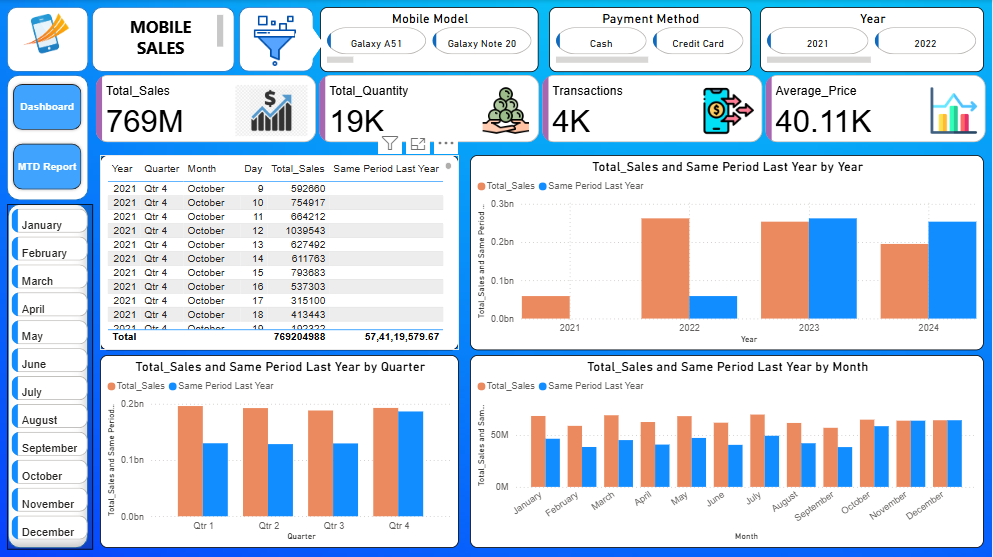

What the dashboard file says about the page in this screenshot:
{"tool":"powerbi","page":{"name":"Same Period Last Year","canvas":[1280,720],"ordinal":2},"visuals":[{"type":"shape","box":[8.5,8.5,104.9,83.6],"z":0},{"type":"image","box":[8.6,8.6,100,70],"z":1000},{"type":"shape","box":[8.5,96.4,104.9,161.6],"z":2000},{"type":"cardVisual","fields":{"Data":["Sales_Data.Total_Sales","Sales_Data.Total_Quantity","Sales_Data.Transactions","Sales_Data.Average_Price"]},"box":[118.6,91.4,1161.4,97.1],"z":3000},{"type":"advancedSlicerVisual","fields":{"Values":["Sales_Data.Mobile Model"]},"box":[412.4,8.5,282,83.6],"z":4000},{"type":"advancedSlicerVisual","fields":{"Values":["Sales_Data.Payment Method"]},"box":[708.7,8.5,260.8,83.6],"z":5000},{"type":"advancedSlicerVisual","fields":{"Values":["Custom_Calender.Date.Variation.Date Hierarchy.Year"]},"box":[980.8,8.5,289.1,83.6],"z":6000},{"type":"shape","box":[309,8.5,96.4,83.6],"z":7000},{"type":"image","box":[302.9,14.3,102.9,77.1],"z":8000},{"type":"shape","box":[380,30,37.1,52.9],"z":9000},{"type":"shape","box":[119.1,8.5,184.3,83.6],"z":10000},{"type":"textbox","box":[128.6,14.3,164.3,68.6],"z":11000},{"type":"shape","box":[9.9,263.6,103.5,443.6],"z":12000},{"type":"advancedSlicerVisual","fields":{"Values":["Custom_Calender.Date.Variation.Date Hierarchy.Month"]},"box":[8.5,263.6,110.6,446.5],"z":13000},{"type":"tableEx","fields":{"Values":["Custom_Calender.Date.Variation.Date Hierarchy.Year","Custom_Calender.Date.Variation.Date Hierarchy.Quarter","Custom_Calender.Date.Variation.Date Hierarchy.Month","Custom_Calender.Date.Variation.Date Hierarchy.Day","Sales_Data.Total_Sales","Sales_Data.Same Period Last Year"]},"box":[129,199.8,463.5,252.3],"z":14000},{"type":"clusteredColumnChart","fields":{"Category":["Custom_Calender.Date.Variation.Date Hierarchy.Year","Custom_Calender.Date.Variation.Date Hierarchy.Quarter","Custom_Calender.Date.Variation.Date Hierarchy.Month","Custom_Calender.Date.Variation.Date Hierarchy.Day"],"Y":["Sales_Data.Total_Sales","Sales_Data.Same Period Last Year"]},"box":[606.6,199.8,663.3,252.3],"z":15000},{"type":"clusteredColumnChart","fields":{"Category":["Custom_Calender.Date.Variation.Date Hierarchy.Year","Custom_Calender.Date.Variation.Date Hierarchy.Quarter","Custom_Calender.Date.Variation.Date Hierarchy.Month","Custom_Calender.Date.Variation.Date Hierarchy.Day"],"Y":["Sales_Data.Total_Sales","Sales_Data.Same Period Last Year"]},"box":[606.6,457.8,663.3,249.4],"z":16000},{"type":"clusteredColumnChart","fields":{"Category":["Custom_Calender.Date.Variation.Date Hierarchy.Year","Custom_Calender.Date.Variation.Date Hierarchy.Quarter","Custom_Calender.Date.Variation.Date Hierarchy.Month","Custom_Calender.Date.Variation.Date Hierarchy.Day"],"Y":["Sales_Data.Total_Sales","Sales_Data.Same Period Last Year"]},"box":[129,457.8,463.5,249.4],"z":17000},{"type":"pageNavigator","box":[12.8,104.9,96.4,144.6],"z":18000}]}

Visuals, with their boxes in screenshot pixels (x1, y1, x2, y2), scaled from the page's 1280x720 canvas onto the 993x557 screenshot:
shape: left=7, top=7, right=88, bottom=71
image: left=7, top=7, right=84, bottom=61
shape: left=7, top=75, right=88, bottom=200
cardVisual - Sales_Data.Total_Sales x Sales_Data.Total_Quantity: left=92, top=71, right=992, bottom=146
advancedSlicerVisual - Sales_Data.Mobile Model: left=320, top=7, right=539, bottom=71
advancedSlicerVisual - Sales_Data.Payment Method: left=550, top=7, right=752, bottom=71
advancedSlicerVisual - Custom_Calender.Date.Variation.Date Hierarchy.Year: left=761, top=7, right=985, bottom=71
shape: left=240, top=7, right=315, bottom=71
image: left=235, top=11, right=315, bottom=71
shape: left=295, top=23, right=324, bottom=64
shape: left=92, top=7, right=235, bottom=71
textbox: left=100, top=11, right=227, bottom=64
shape: left=8, top=204, right=88, bottom=547
advancedSlicerVisual - Custom_Calender.Date.Variation.Date Hierarchy.Month: left=7, top=204, right=92, bottom=549
tableEx - Custom_Calender.Date.Variation.Date Hierarchy.Year x Custom_Calender.Date.Variation.Date Hierarchy.Quarter: left=100, top=155, right=460, bottom=350
clusteredColumnChart - Custom_Calender.Date.Variation.Date Hierarchy.Year x Custom_Calender.Date.Variation.Date Hierarchy.Quarter: left=471, top=155, right=985, bottom=350
clusteredColumnChart - Custom_Calender.Date.Variation.Date Hierarchy.Year x Custom_Calender.Date.Variation.Date Hierarchy.Quarter: left=471, top=354, right=985, bottom=547
clusteredColumnChart - Custom_Calender.Date.Variation.Date Hierarchy.Year x Custom_Calender.Date.Variation.Date Hierarchy.Quarter: left=100, top=354, right=460, bottom=547
pageNavigator: left=10, top=81, right=85, bottom=193
